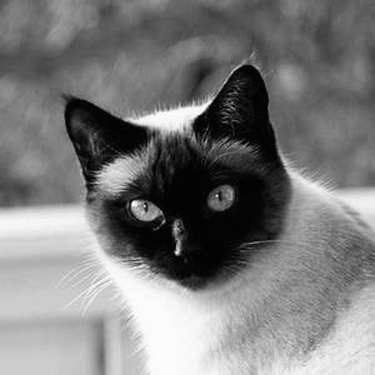cat: (62, 62, 369, 370)
